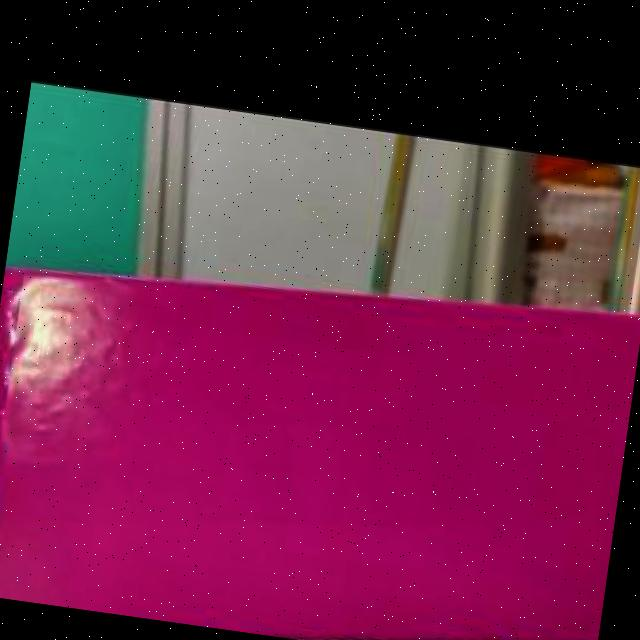xparking: (0, 265, 640, 640)
